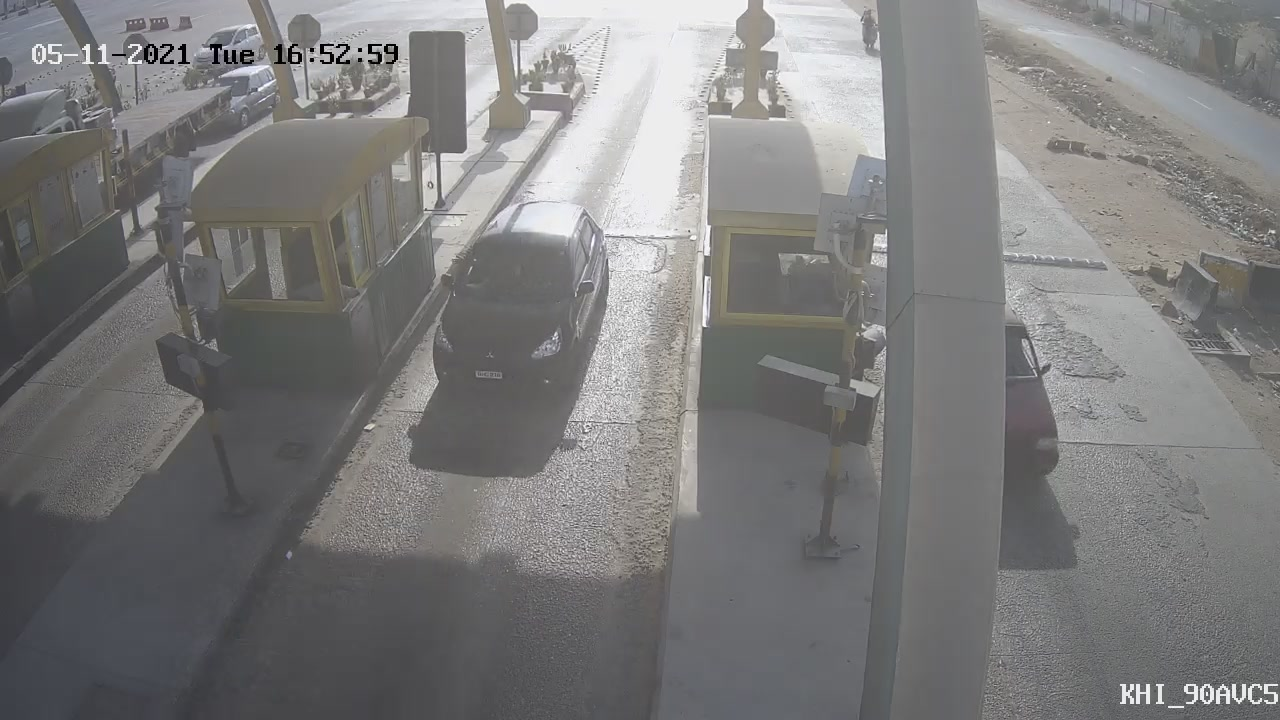F1: (407, 179, 627, 417)
